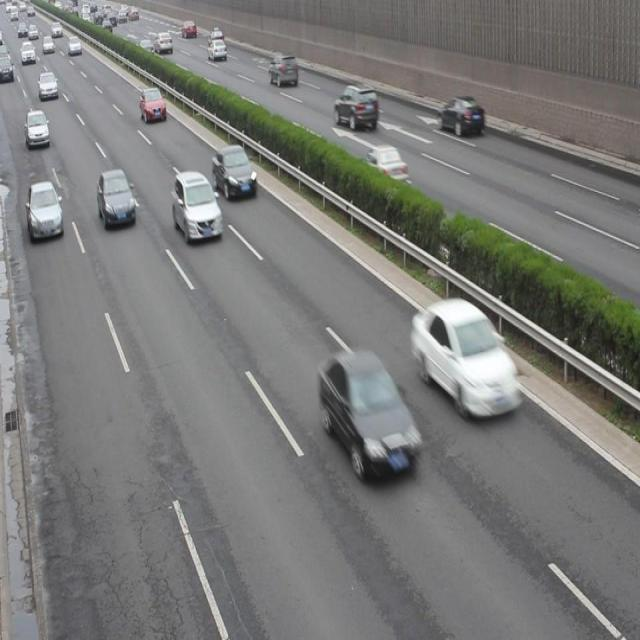car: (411, 297, 522, 422), (318, 347, 421, 481), (170, 168, 222, 244), (212, 144, 257, 202), (97, 170, 137, 232), (27, 180, 64, 243), (333, 83, 378, 130), (358, 144, 406, 188), (437, 94, 484, 138), (268, 52, 298, 90), (25, 109, 51, 149), (140, 85, 166, 124)
